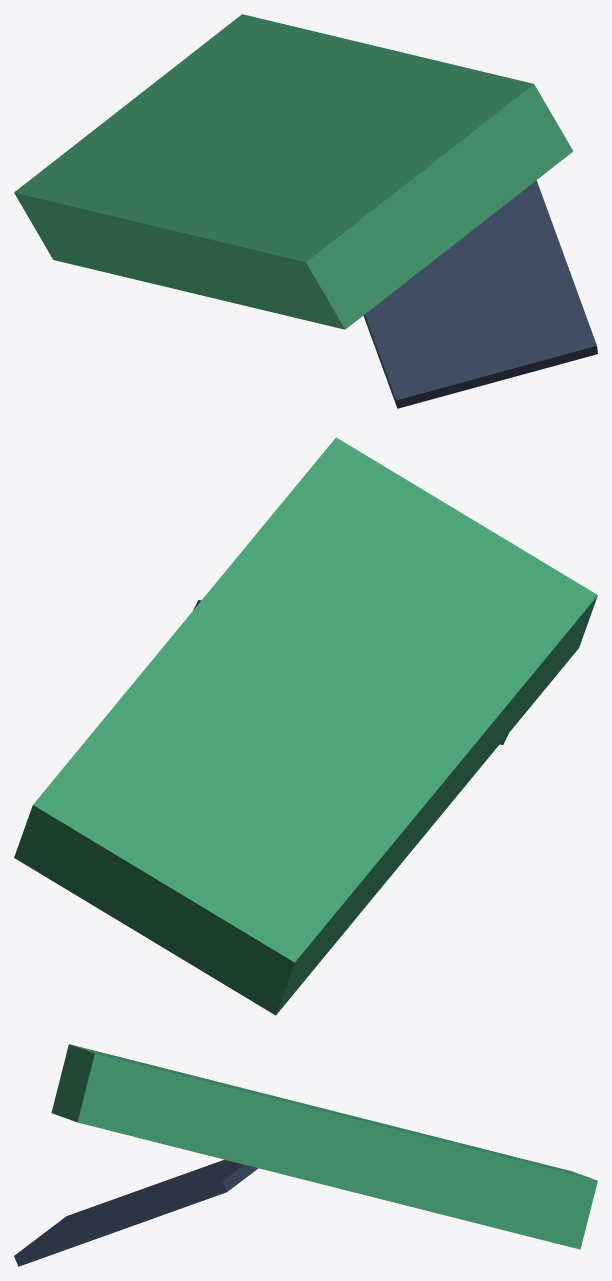
Rendered from parked-car-wreck.glb.
3 renders of one model, top to bottom at view 1: azimuth 30°, elevation 25°; view 2: azimuth 150°, elevation 25°; view 3: azimuth 270°, elevation 25°, orthographic. The views are drawn at different scales.
Visible parts, largest first — view 1: Root; view 2: Root; view 3: Root.
Boxes of the visible parts, left/top/right/bottom form: Root: left=14, top=14, right=597, bottom=408; Root: left=14, top=437, right=597, bottom=1015; Root: left=14, top=1044, right=597, bottom=1266.
Bounding box in the file's own units: 2.55 × 2.55 × 4.92.
